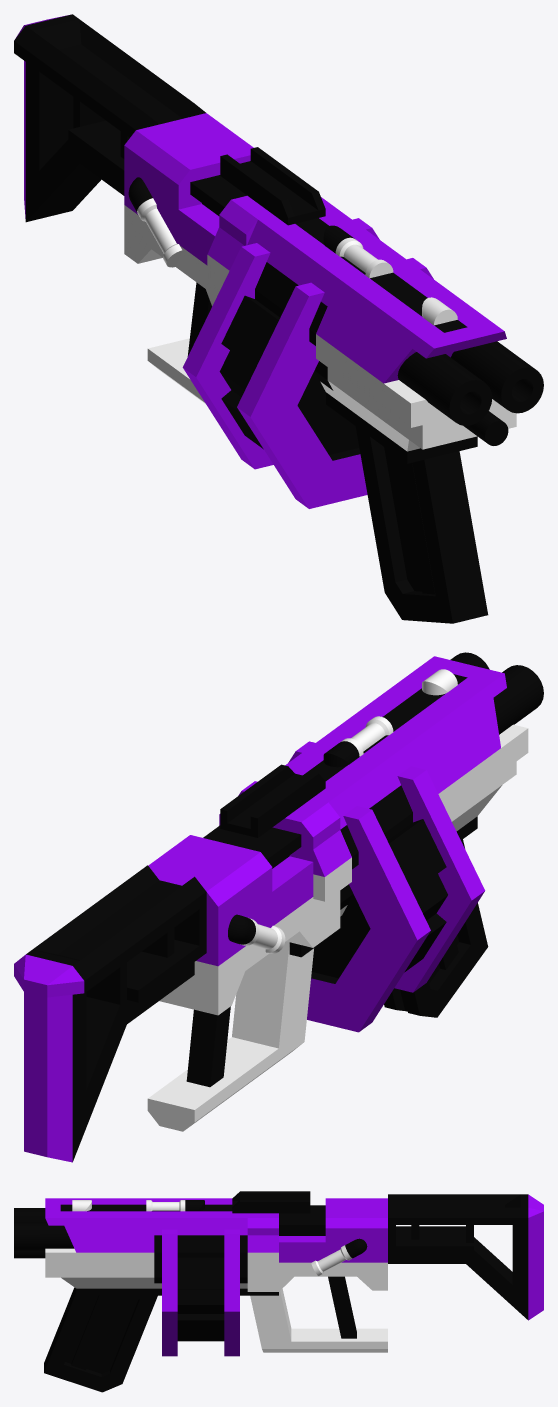
The model's file is DefaultBlaster.fbx.
3 renders of one model, top to bottom at view 1: azimuth 30°, elevation 25°; view 2: azimuth 150°, elevation 25°; view 3: azimuth 270°, elevation 25°, orthographic. The views are drawn at different scales.
Visible parts, largest first — view 1: largeBlaster_barrelDouble, clipBarrel, stock_stealth, blaster_handleGuard, clip_default, largeBlaster_centerDetail, detailRail_front, detail_pipeEndRound, detail_pipeEnd; view 2: blaster_handleGuard, stock_stealth, clipBarrel, largeBlaster_barrelDouble, largeBlaster_centerDetail, detailRail_front, clip_default, detail_pipeEnd, detail_pipeEndRound, detail_pipeEndSmall; view 3: blaster_handleGuard, stock_stealth, largeBlaster_barrelDouble, largeBlaster_centerDetail, clipBarrel, clip_default, detailRail_front, detail_pipeEndRound, detail_pipeEnd.
Part boxes in pixels (x1,y1,x2,y2): largeBlaster_barrelDouble: (316, 262, 543, 463); clipBarrel: (182, 218, 433, 508); stock_stealth: (14, 14, 205, 222); blaster_handleGuard: (124, 113, 327, 403); clip_default: (355, 426, 488, 623); largeBlaster_centerDetail: (207, 196, 436, 431); detailRail_front: (220, 147, 325, 225); detail_pipeEndRound: (128, 177, 182, 267); detail_pipeEnd: (323, 225, 393, 278); blaster_handleGuard: (147, 798, 340, 1131); stock_stealth: (14, 865, 206, 1162); clipBarrel: (238, 741, 485, 1032); largeBlaster_barrelDouble: (341, 652, 543, 840); largeBlaster_centerDetail: (276, 706, 460, 957); detailRail_front: (220, 764, 325, 837); clip_default: (384, 839, 488, 1017); detail_pipeEnd: (323, 716, 393, 767); detail_pipeEndRound: (228, 914, 285, 953); detail_pipeEndSmall: (422, 669, 457, 695); blaster_handleGuard: (247, 1198, 387, 1352); stock_stealth: (388, 1194, 543, 1320); largeBlaster_barrelDouble: (14, 1198, 154, 1295); largeBlaster_centerDetail: (123, 1198, 278, 1295); clipBarrel: (162, 1229, 239, 1356); clip_default: (44, 1287, 157, 1392); detailRail_front: (232, 1191, 310, 1213); detail_pipeEndRound: (311, 1238, 367, 1275); detail_pipeEnd: (146, 1200, 204, 1211).
Bounding box in the file's own units: 10 × 13.51 × 34.
